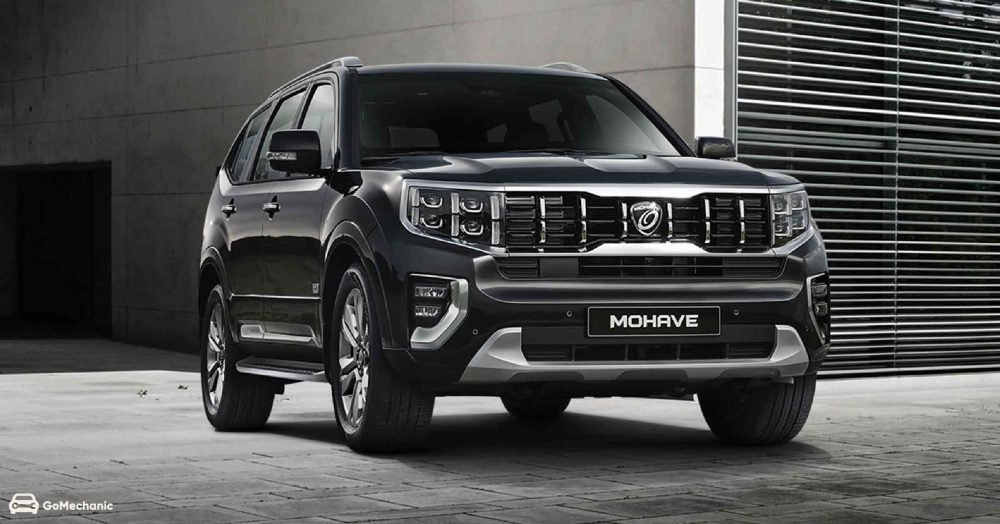car: (196, 57, 830, 455)
